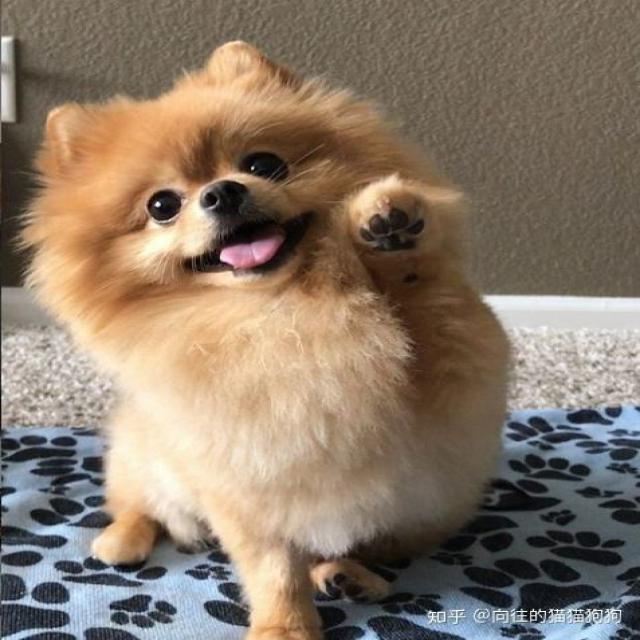eye: (240, 146, 294, 184), (144, 188, 186, 225)
